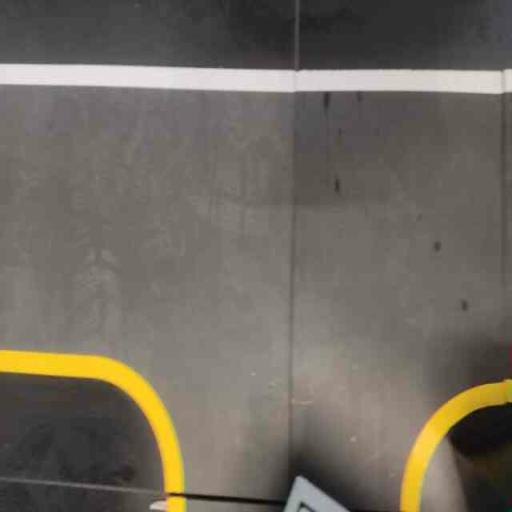left: (3, 33, 296, 469)
